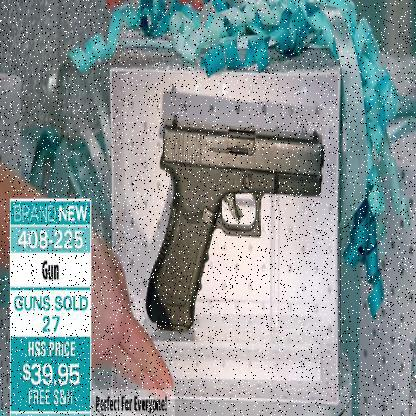pistol: (148, 117, 323, 328)
